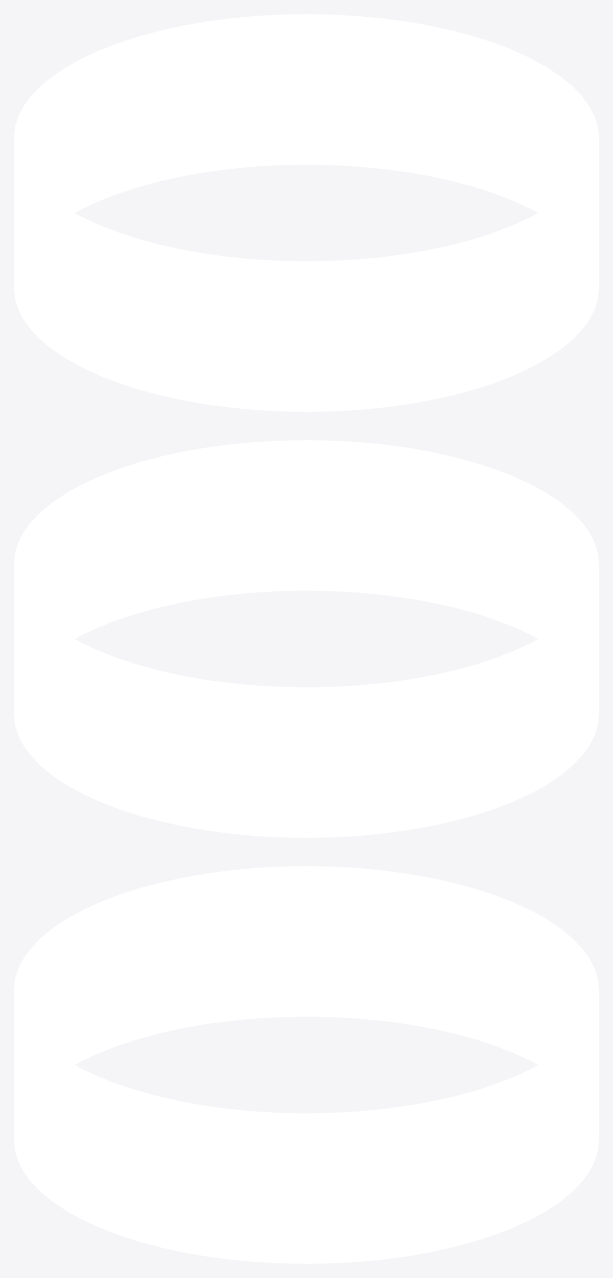
File: curtain_storm.glb
3 views of the same model, one above another, from view 1: azimuth 30°, elevation 25°; view 2: azimuth 150°, elevation 25°; view 3: azimuth 270°, elevation 25° (orthographic).
Size of the model in its own units: 236 by 67 by 236.
1 material, 1 textured.
